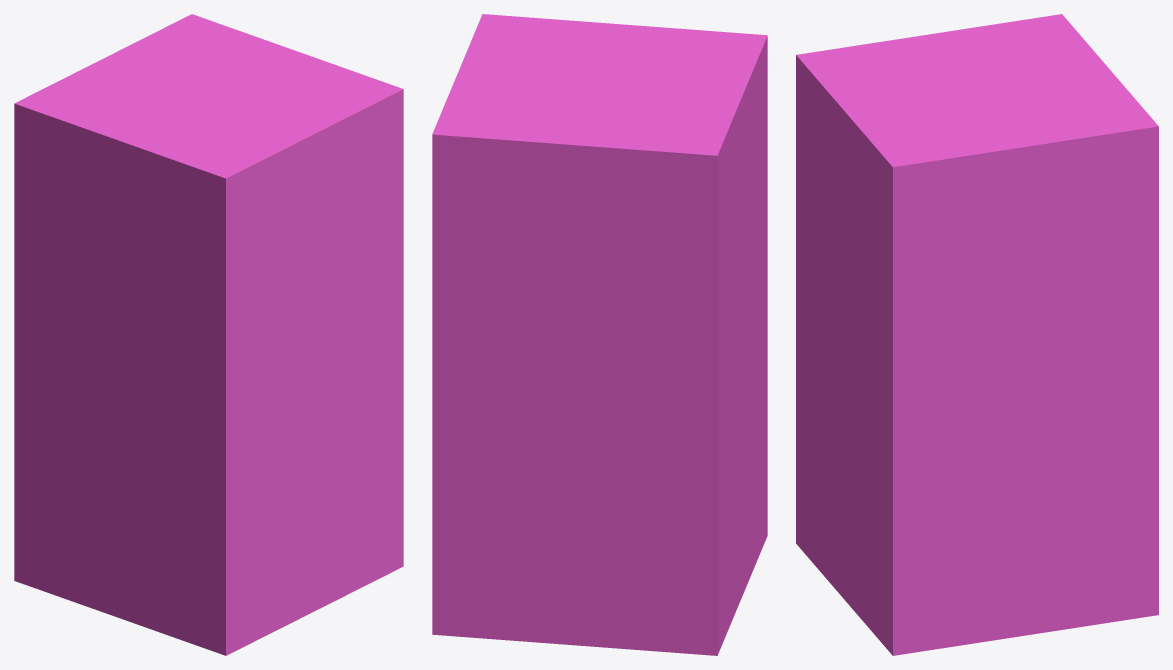
3 views of the same model, side by side, from view 1: azimuth 30°, elevation 25°; view 2: azimuth 150°, elevation 25°; view 3: azimuth 270°, elevation 25° (orthographic). The views are drawn at different scales.
Parts seen in each view (by area): view 1: 5????A1038; view 2: 5????A1038; view 3: 5????A1038.
Boxes of the visible parts, <box> form: 5????A1038: <box>14,14,403,655</box>; 5????A1038: <box>432,14,767,655</box>; 5????A1038: <box>796,14,1158,655</box>.
Bounding box in the file's own units: 2.69 × 4 × 2.69.
